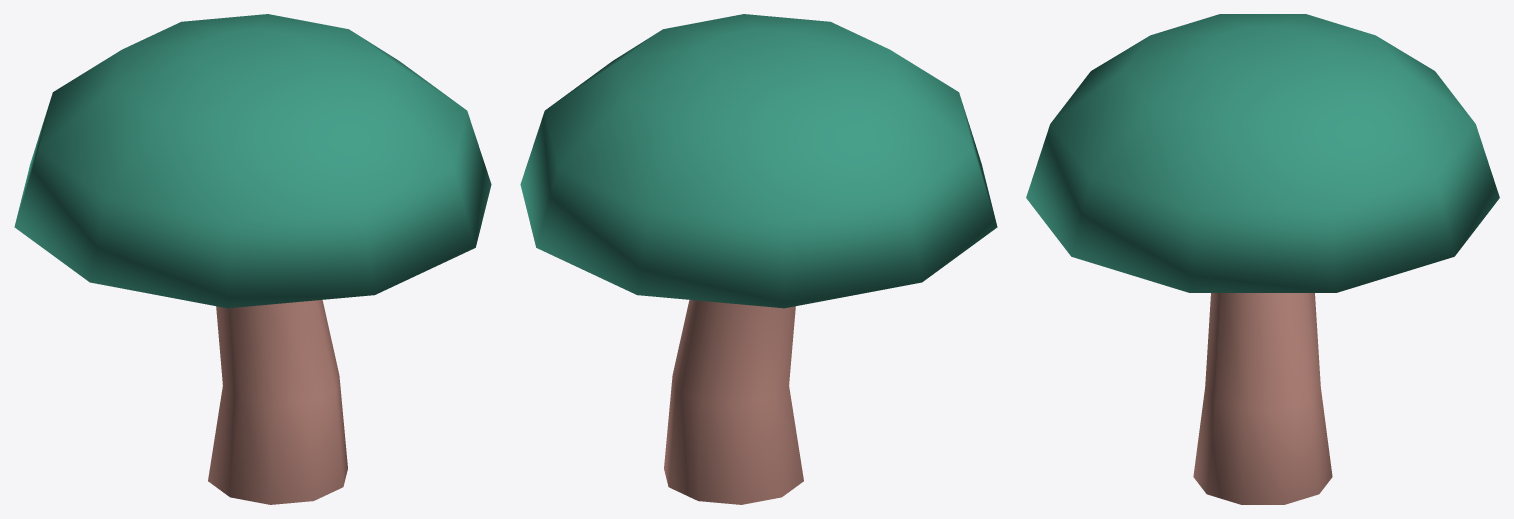
Rendered from Mushroom_Turquoise_2.fbx.
3 renders of one model, left to right at view 1: azimuth 30°, elevation 25°; view 2: azimuth 150°, elevation 25°; view 3: azimuth 270°, elevation 25°, orthographic. The views are drawn at different scales.
Parts seen in each view (by area): view 1: Cylinder.579, Cylinder.580; view 2: Cylinder.579, Cylinder.580; view 3: Cylinder.579, Cylinder.580.
Boxes of the visible parts, <box> form: Cylinder.579: <box>14,14,491,308</box>; Cylinder.580: <box>208,300,347,504</box>; Cylinder.579: <box>520,14,997,308</box>; Cylinder.580: <box>664,300,803,504</box>; Cylinder.579: <box>1026,14,1499,292</box>; Cylinder.580: <box>1193,293,1332,504</box>.
Size of the model in its own units: 72.61 by 73.76 by 76.34.
